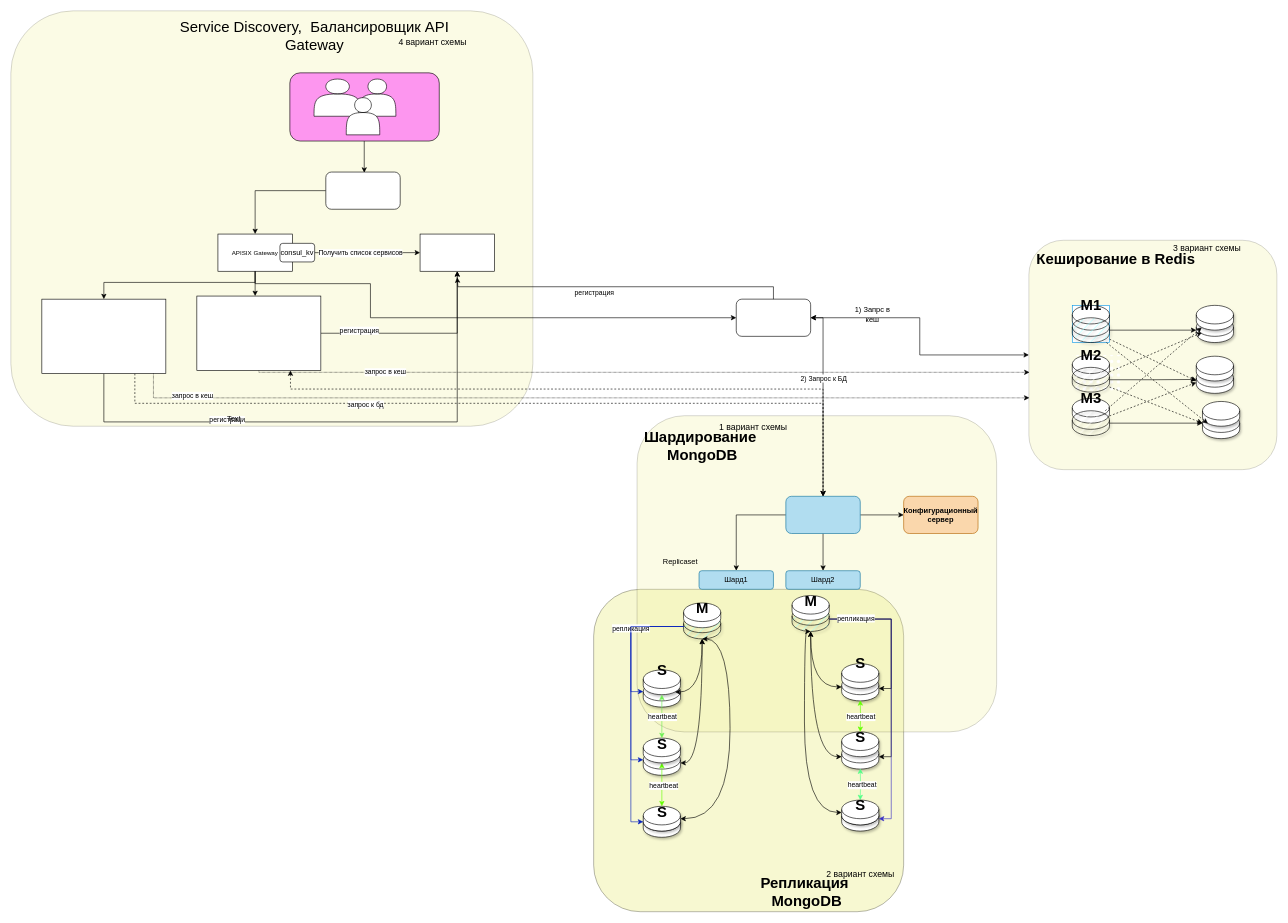
Some shapes in this 1288 by 923 pixel diagram are drawn without their labels. The shapes that lost their labels are listed below. From the top down, each one's centre as x and y in pixels, then its label:
point (362, 190): Сайт Nginx
point (456, 252): Consul
point (103, 336): pymongo-api...N- инстанс
point (258, 332): pymongo-api(2 инстанс)
point (773, 317): pymongo-api
point (822, 515): Роутер
